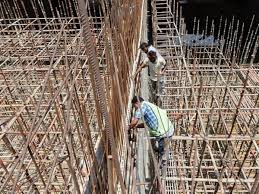arm: (127, 97, 156, 131)
glove: (131, 94, 143, 108), (128, 116, 140, 129)
human: (135, 40, 169, 102)
novest: (147, 56, 164, 80)
vest: (135, 101, 172, 135), (147, 56, 164, 80)
